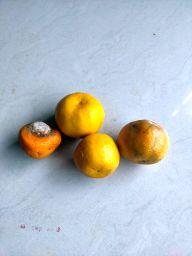orange: (54, 91, 105, 139), (117, 120, 169, 164), (72, 133, 120, 179), (18, 121, 62, 160)
